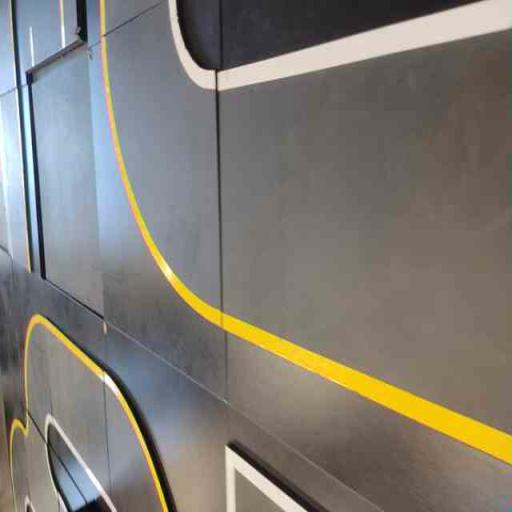straight: (218, 0, 511, 509)
